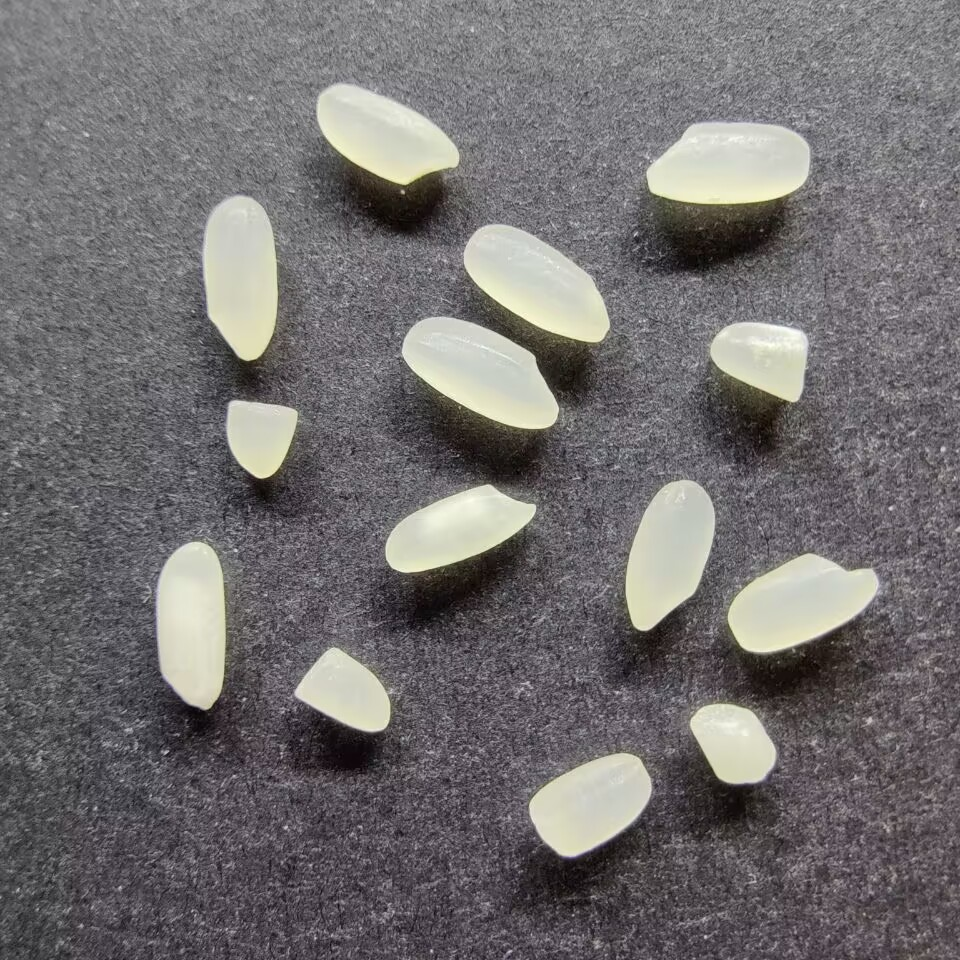broken: (526, 749, 655, 862), (291, 645, 394, 735), (709, 320, 811, 405), (688, 701, 779, 788), (222, 393, 297, 481)
rice: (398, 314, 560, 433), (460, 222, 612, 343), (725, 551, 883, 654), (314, 81, 461, 186), (643, 119, 812, 207), (622, 477, 716, 633), (382, 482, 539, 575), (200, 194, 279, 364), (153, 540, 228, 713)
